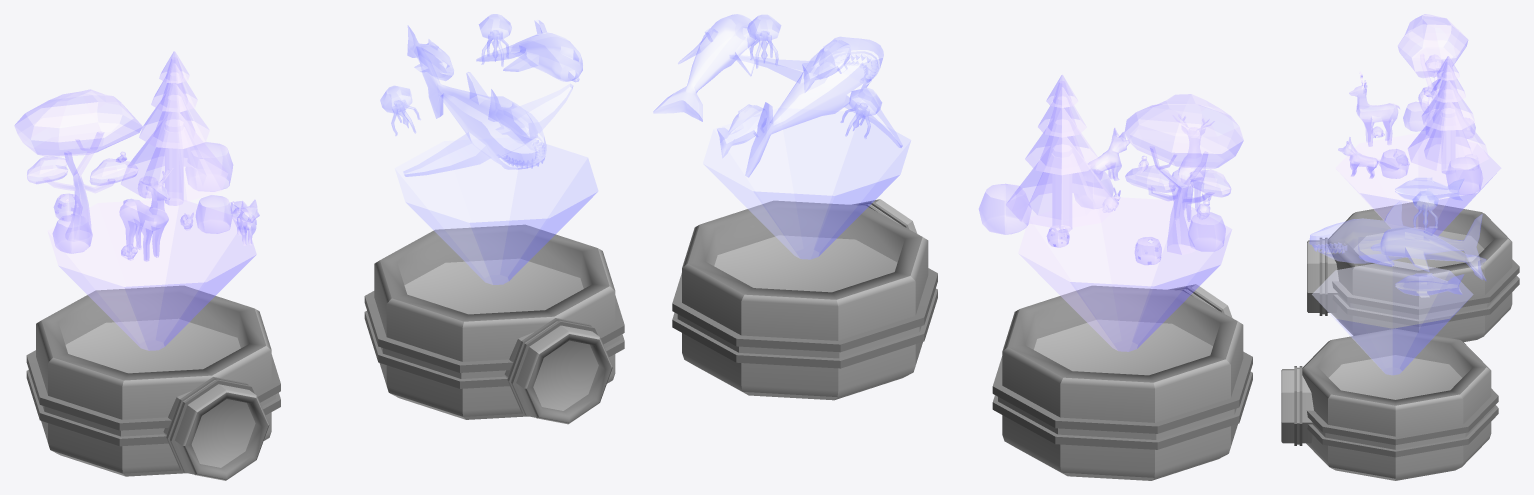
Rendered from COMBINED_holograms.glb.
3 views of the same model, side by side, from view 1: azimuth 30°, elevation 25°; view 2: azimuth 150°, elevation 25°; view 3: azimuth 270°, elevation 25° (orthographic). The views are drawn at different scales.
Visible parts, largest first — view 1: pCylinder12, pCylinder4, pCylinder6, RAY1, oak:pCylinder2, base2, pine:pCylinder2, pCylinder11, pCylinder5, pCylinder2, deer:pCylinder1, bush_geo3 (+7 smaller); view 2: pCylinder12, pCylinder4, RAY1, pCylinder6, oak:pCylinder2, pine:pCylinder2, base2, pCylinder2, bush_geo3, deer:pCylinder1, pCylinder10, pCylinder8 (+7 smaller); view 3: pCylinder12, pCylinder4, RAY1, pCylinder6, base2, pine:pCylinder2, oak:pCylinder2, pCylinder2, pCylinder11, pCylinder5, deer:pCylinder1, pCylinder8 (+6 smaller).
Part boxes in pixels (bbox=[...]): pCylinder12: bbox=[364, 224, 624, 419]; pCylinder4: bbox=[26, 285, 280, 476]; pCylinder6: bbox=[48, 200, 256, 350]; RAY1: bbox=[395, 137, 598, 284]; oak:pCylinder2: bbox=[14, 89, 142, 241]; base2: bbox=[403, 45, 572, 176]; pine:pCylinder2: bbox=[121, 51, 227, 205]; pCylinder11: bbox=[504, 318, 612, 424]; pCylinder5: bbox=[163, 377, 269, 480]; pCylinder2: bbox=[476, 20, 582, 81]; deer:pCylinder1: bbox=[119, 169, 172, 261]; bush_geo3: bbox=[185, 142, 232, 191]; pCylinder12: bbox=[672, 200, 937, 400]; pCylinder4: bbox=[992, 285, 1252, 480]; RAY1: bbox=[703, 108, 910, 259]; pCylinder6: bbox=[1018, 197, 1231, 351]; oak:pCylinder2: bbox=[1124, 94, 1243, 254]; pine:pCylinder2: bbox=[1006, 75, 1118, 232]; base2: bbox=[730, 37, 902, 177]; pCylinder2: bbox=[653, 14, 756, 121]; bush_geo3: bbox=[979, 184, 1031, 234]; deer:pCylinder1: bbox=[1169, 114, 1214, 221]; pCylinder10: bbox=[717, 104, 767, 157]; pCylinder8: bbox=[802, 39, 850, 92]; pCylinder12: bbox=[1302, 328, 1498, 480]; pCylinder4: bbox=[1327, 201, 1519, 341]; RAY1: bbox=[1312, 260, 1473, 374]; pCylinder6: bbox=[1336, 133, 1500, 236]; base2: bbox=[1309, 201, 1482, 279]; pine:pCylinder2: bbox=[1408, 56, 1488, 174]; oak:pCylinder2: bbox=[1398, 14, 1467, 136]; pCylinder2: bbox=[1371, 226, 1485, 280]; pCylinder11: bbox=[1281, 366, 1313, 445]; pCylinder5: bbox=[1307, 237, 1338, 315]; deer:pCylinder1: bbox=[1349, 71, 1399, 146]; pCylinder8: bbox=[1395, 177, 1463, 201].
Bounding box in the file's own units: 0.3713 × 0.2318 × 0.1777.
5 materials, 3 textured.
